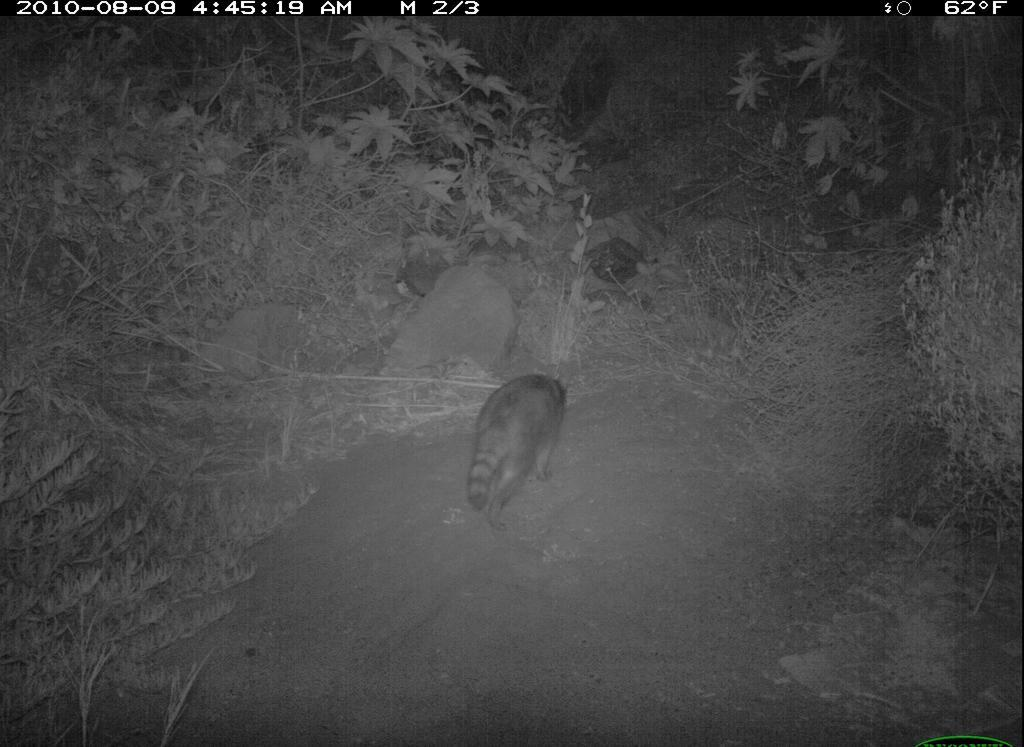raccoon: (459, 346, 579, 525)
